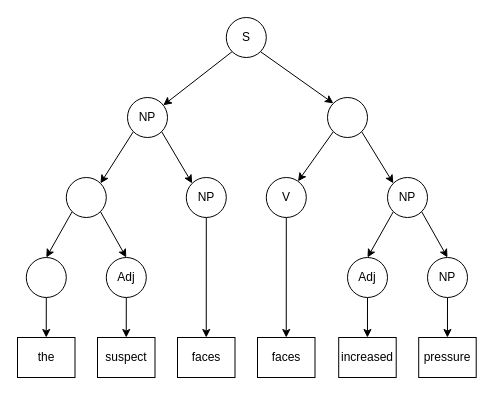
The diagram is 494 pixels wide and 395 high, and some of its shapes have lost their labels. Each missing label, with the centre of its shape:
DA: [85,197]
Det: [45,277]
VP: [347,117]
